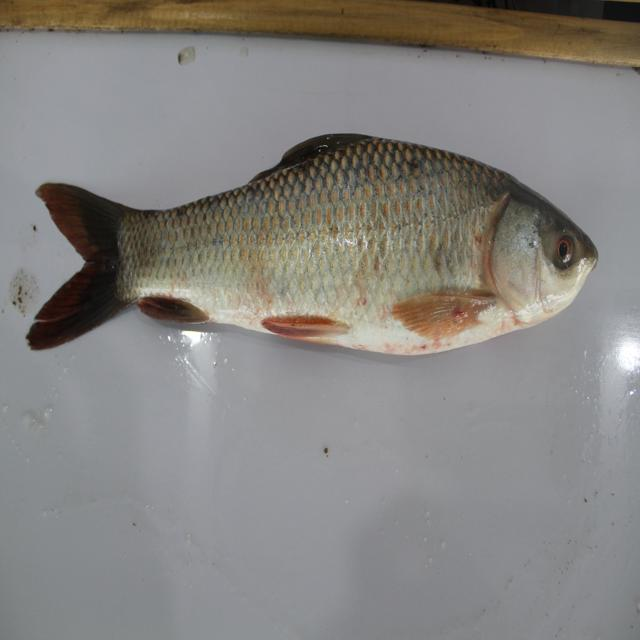Rohu: (24, 127, 604, 372)
